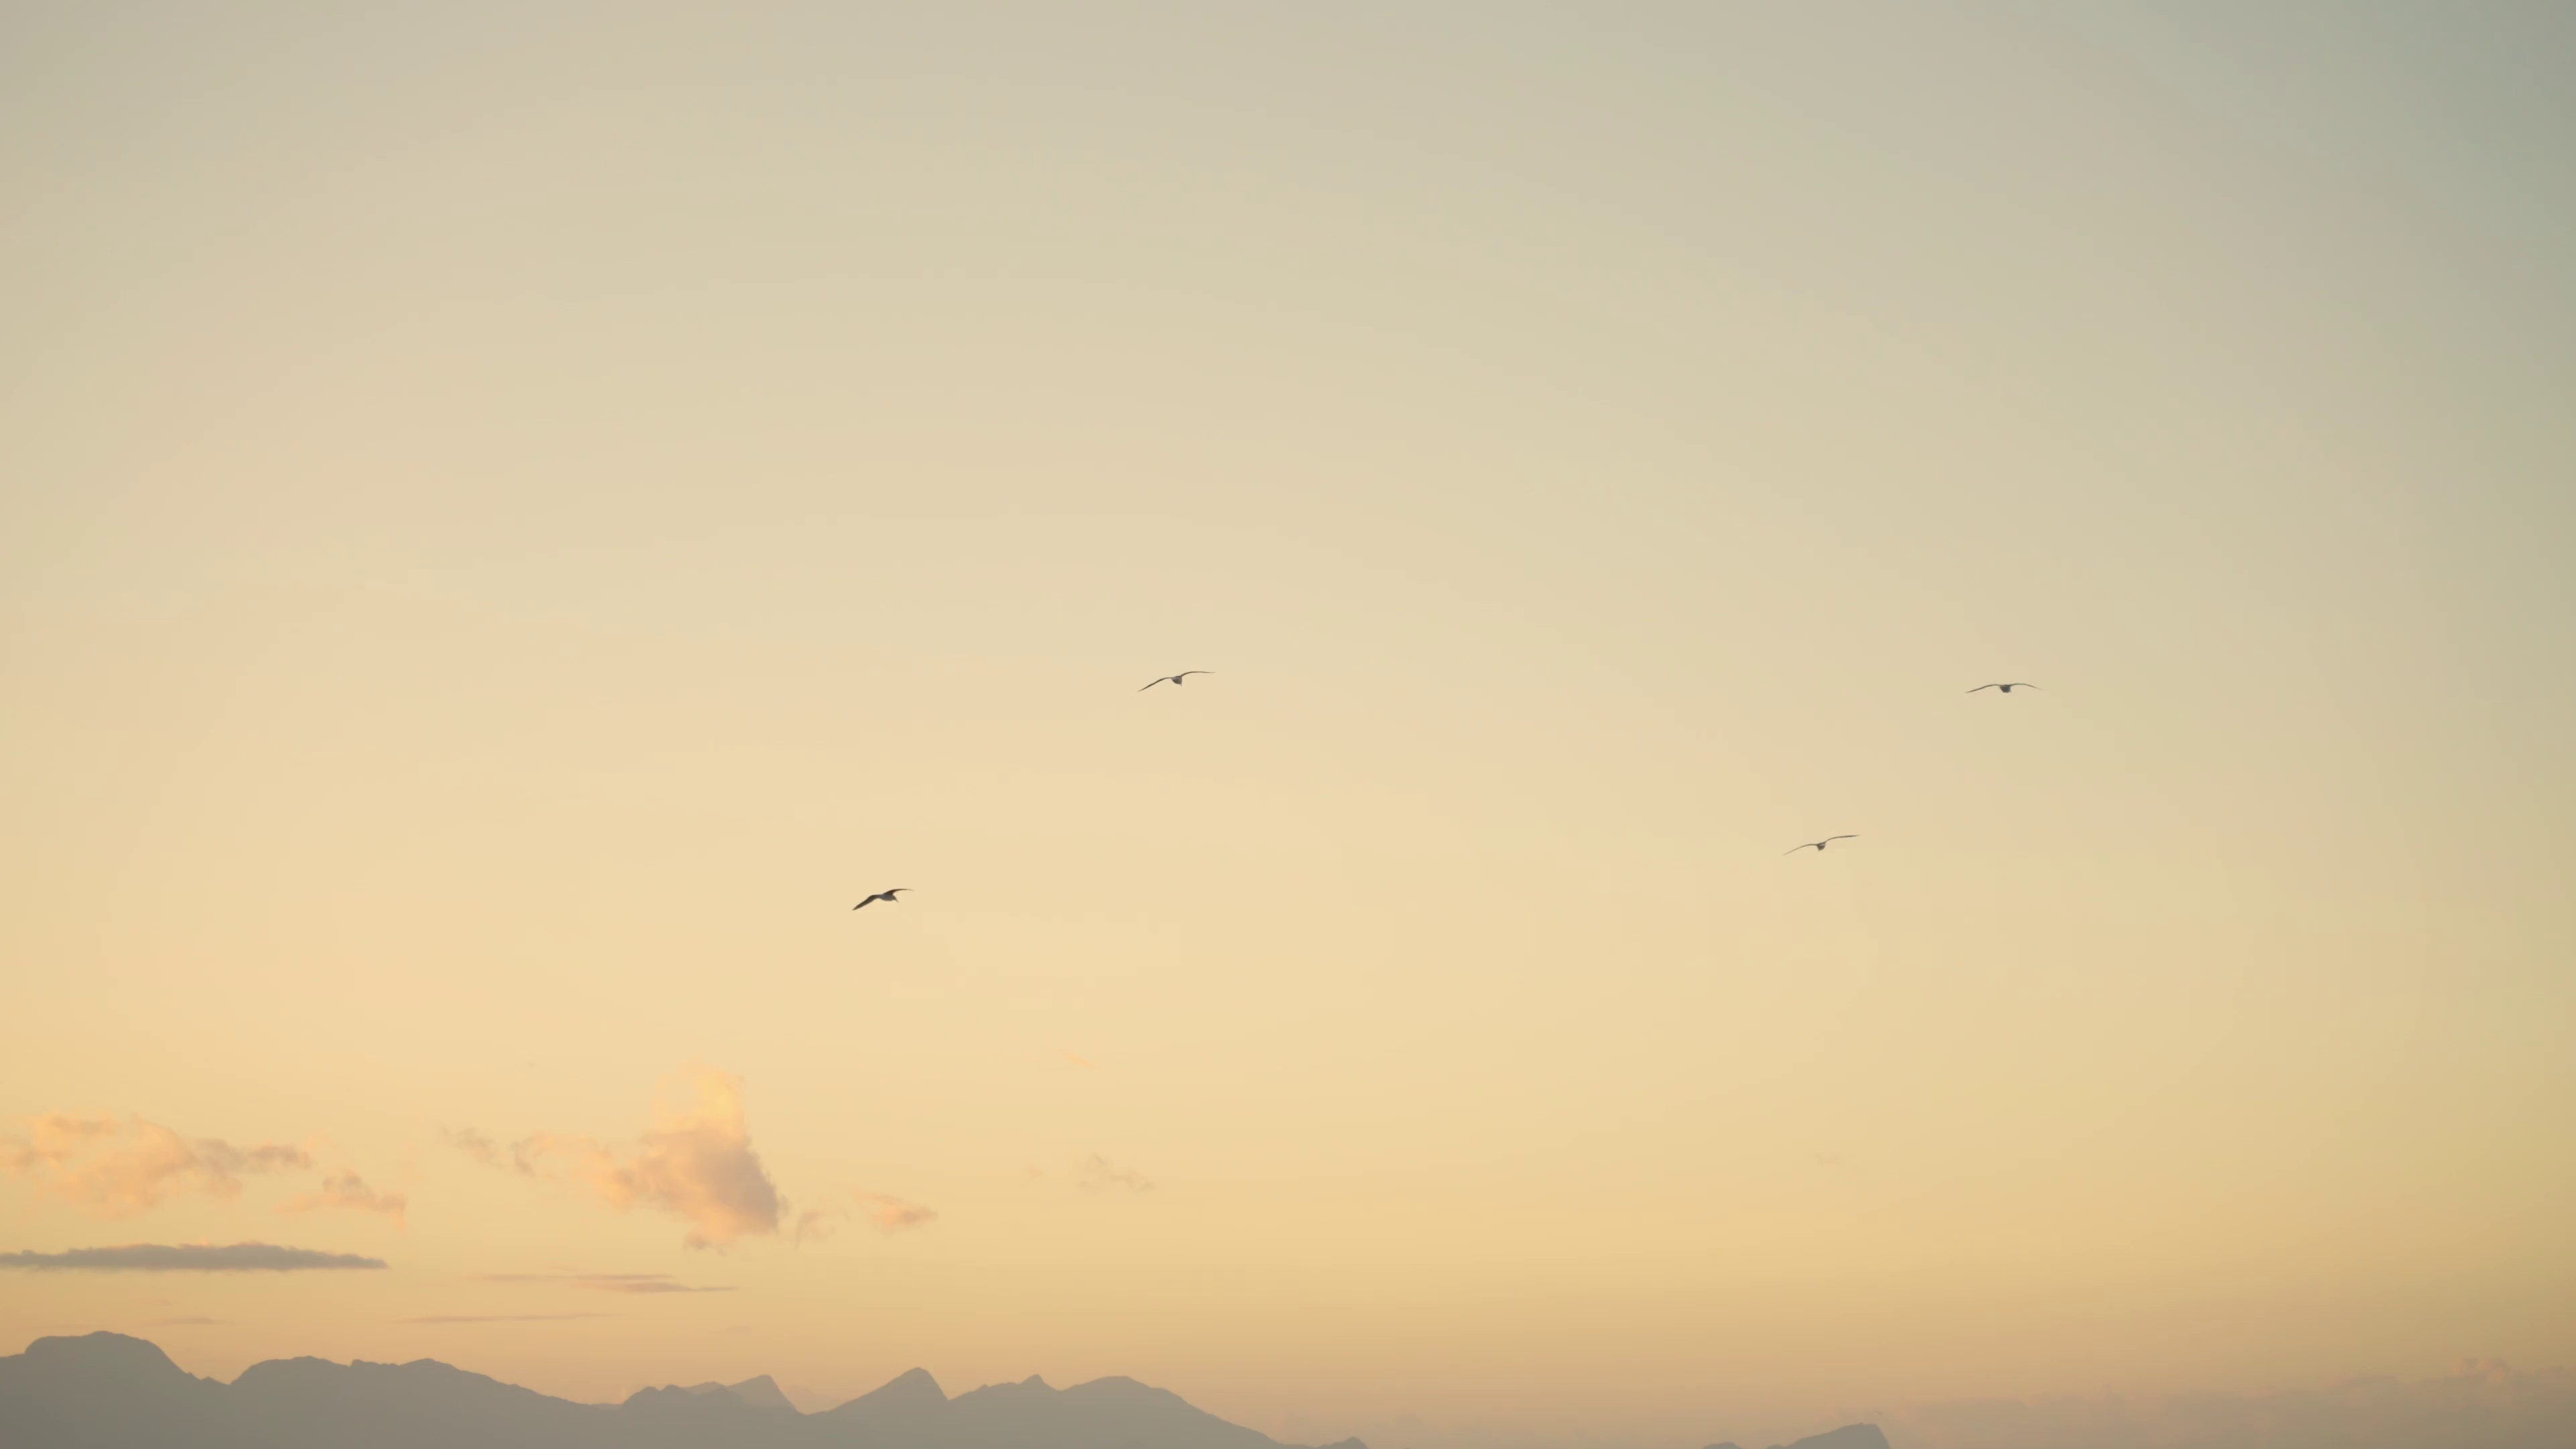bird: (1141, 665, 1201, 692), (1962, 678, 2033, 699), (856, 883, 911, 909), (1785, 835, 1856, 855)
